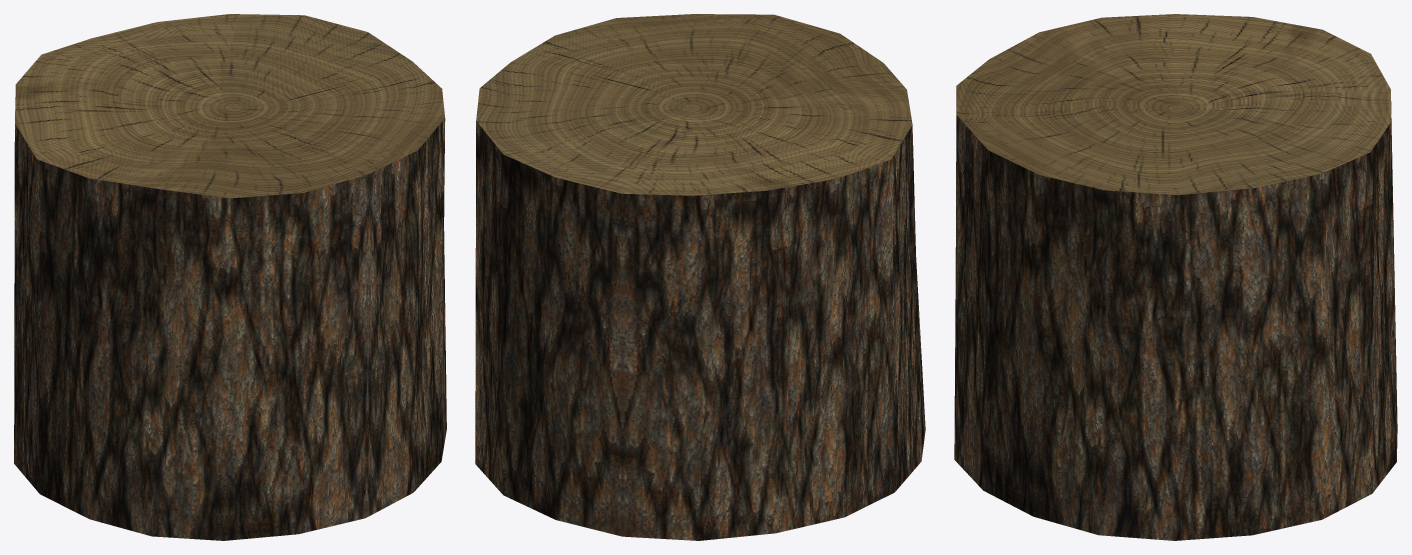
Rendered from log_LOD1.FBX.
3 views of the same model, side by side, from view 1: azimuth 30°, elevation 25°; view 2: azimuth 150°, elevation 25°; view 3: azimuth 270°, elevation 25° (orthographic).
Visible parts, largest first — view 1: log_LOD1; view 2: log_LOD1; view 3: log_LOD1.
Boxes of the visible parts, x1,y1,x2,y2 form: log_LOD1: (14,14,446,540); log_LOD1: (475,14,925,540); log_LOD1: (954,14,1397,540).
Size of the model in its own units: 56.15 by 47.88 by 55.38.
